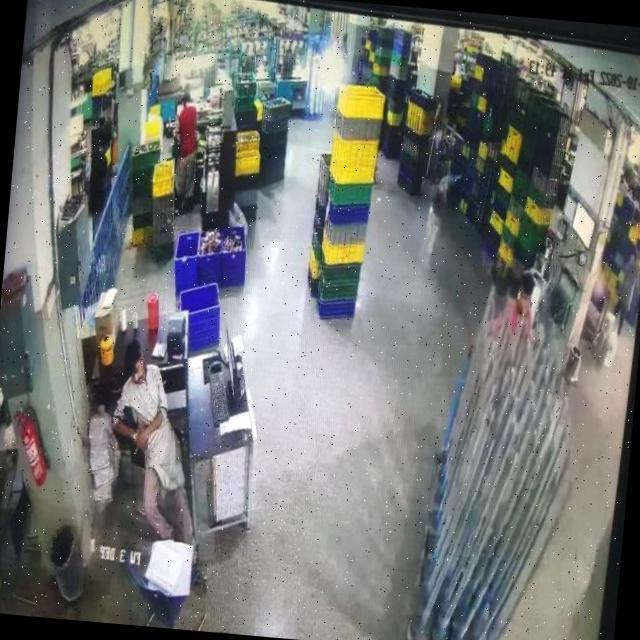person: (100, 333, 192, 540), (164, 90, 202, 216)
